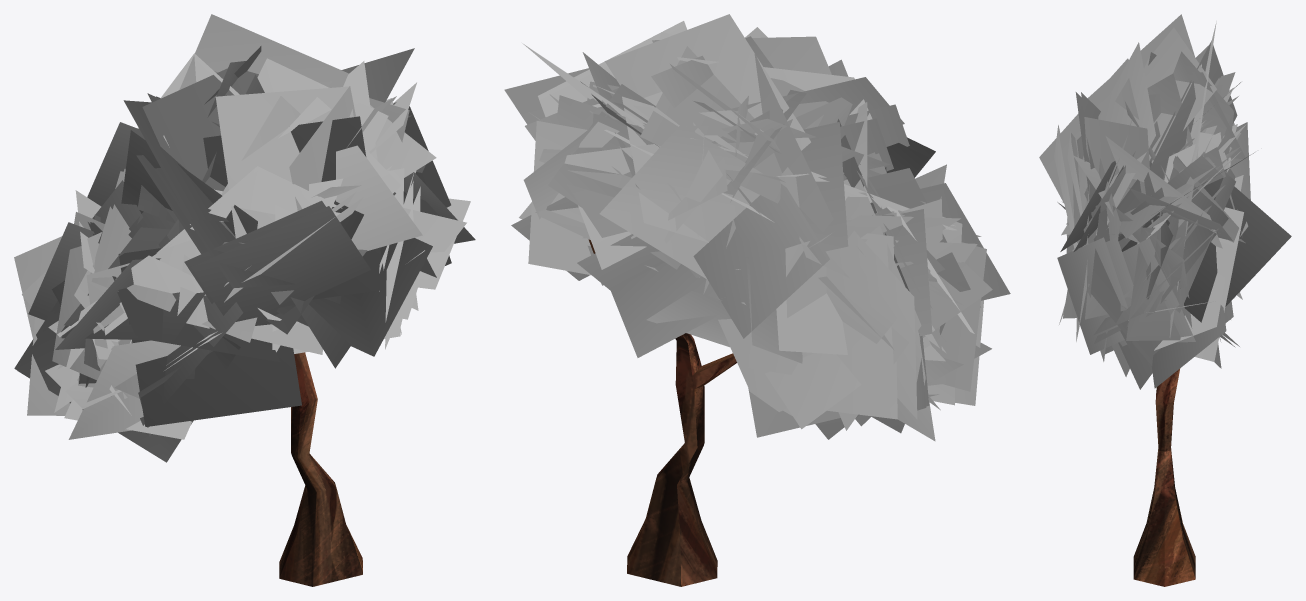
Rendered from Tree.fbx.
3 views of the same model, side by side, from view 1: azimuth 30°, elevation 25°; view 2: azimuth 150°, elevation 25°; view 3: azimuth 270°, elevation 25° (orthographic). The views are drawn at different scales.
Parts seen in each view (by area): view 1: leaves, trunk; view 2: leaves, trunk; view 3: leaves, trunk.
Boxes of the visible parts, bbox=[...] form: leaves: bbox=[14, 14, 475, 462]; trunk: bbox=[279, 352, 362, 586]; leaves: bbox=[504, 14, 1010, 441]; trunk: bbox=[588, 239, 736, 586]; leaves: bbox=[1039, 14, 1291, 389]; trunk: bbox=[1133, 368, 1195, 586].
Size of the model in its own units: 191 by 236 by 106.
